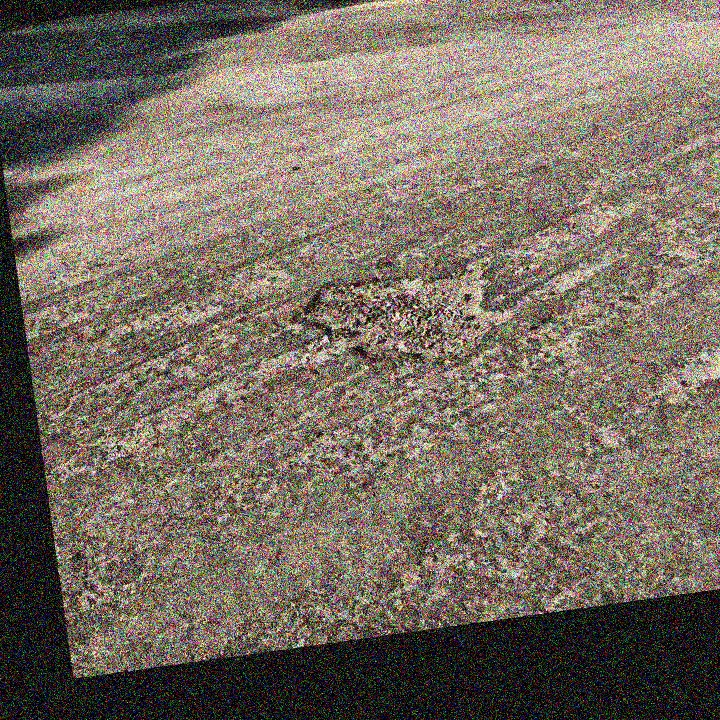pothole: (283, 252, 520, 383)
